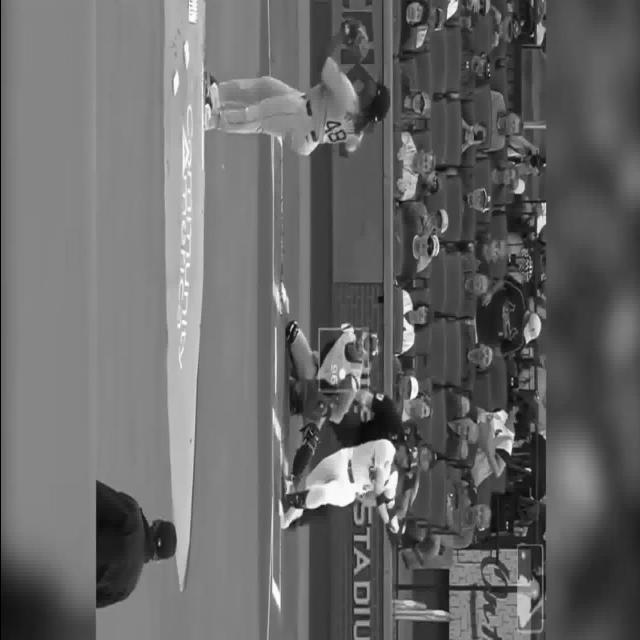base: (273, 323, 276, 391)
baseball_glove: (339, 16, 367, 60), (298, 382, 324, 418)
bat: (403, 472, 418, 526)
shoe: (203, 68, 220, 112), (272, 494, 288, 534), (202, 86, 210, 132), (284, 475, 298, 497)
